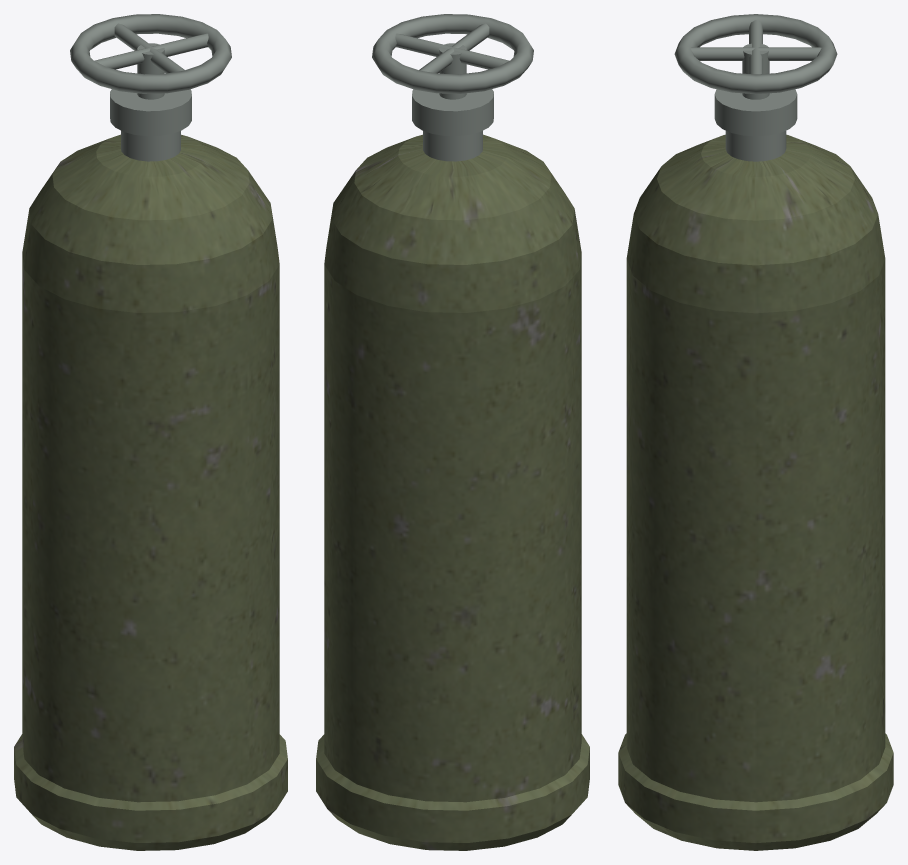
Rendered from service_cylinder.glb.
3 renders of one model, left to right at view 1: azimuth 30°, elevation 25°; view 2: azimuth 150°, elevation 25°; view 3: azimuth 270°, elevation 25°, orthographic.
Parts seen in each view (by area): view 1: Vessel.001, Valve; view 2: Vessel.001, Valve; view 3: Vessel.001, Valve.
Boxes of the visible parts, x1,y1,x2,y2 form: Vessel.001: (14,134,287,850); Valve: (70,14,231,161); Vessel.001: (316,134,589,850); Valve: (372,14,533,161); Vessel.001: (618,134,893,850); Valve: (674,14,837,161).
Size of the model in its own units: 0.5 by 1.51 by 0.5.
Materials: 2 (1 with a texture image).
